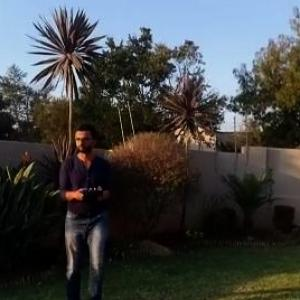follow: (53, 117, 115, 299)
